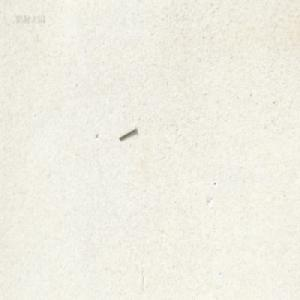Bolt: (118, 125, 136, 140)
